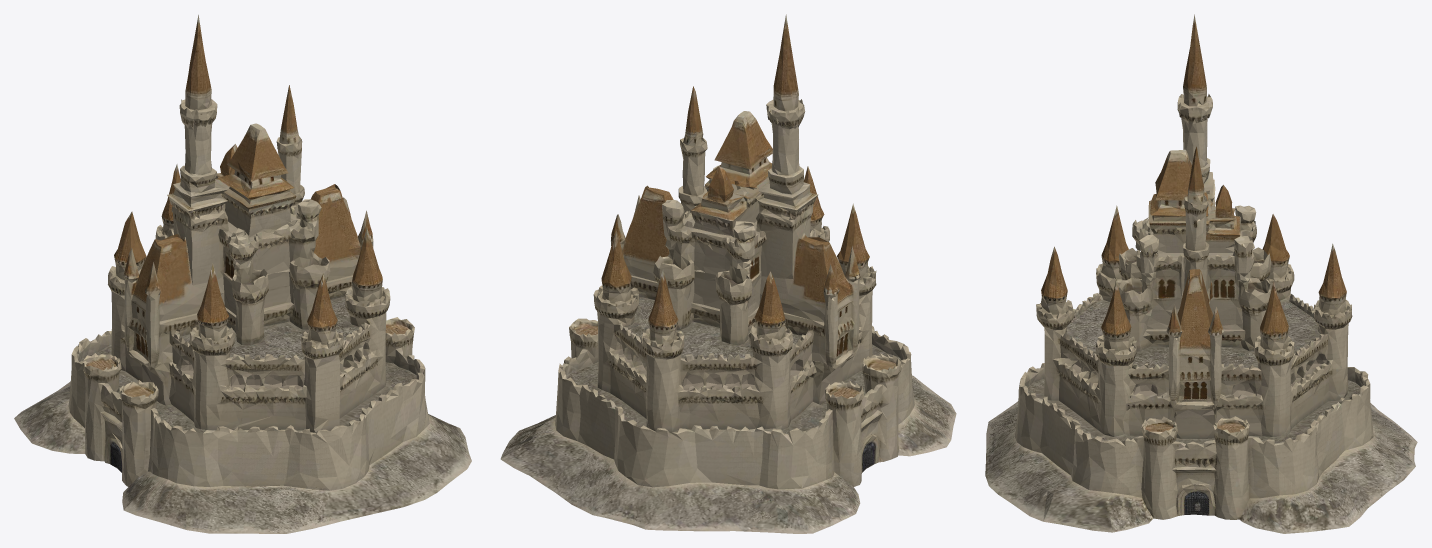
File: tripo_convert_66f856d5-6045-4006-833e-4f1d04bb535e.obj
3 views of the same model, side by side, from view 1: azimuth 30°, elevation 25°; view 2: azimuth 150°, elevation 25°; view 3: azimuth 270°, elevation 25° (orthographic). The views are drawn at different scales.
Parts seen in each view (by area): view 1: tripo_node_66f856d5-6045-4006-833e-4f1d04bb535e; view 2: tripo_node_66f856d5-6045-4006-833e-4f1d04bb535e; view 3: tripo_node_66f856d5-6045-4006-833e-4f1d04bb535e.
Boxes of the visible parts, <box> form: tripo_node_66f856d5-6045-4006-833e-4f1d04bb535e: <box>14,15,471,533</box>; tripo_node_66f856d5-6045-4006-833e-4f1d04bb535e: <box>500,14,956,533</box>; tripo_node_66f856d5-6045-4006-833e-4f1d04bb535e: <box>985,14,1417,533</box>.
Size of the model in its own units: 0.8037 by 0.9898 by 0.9298.
1 material, 1 textured.
